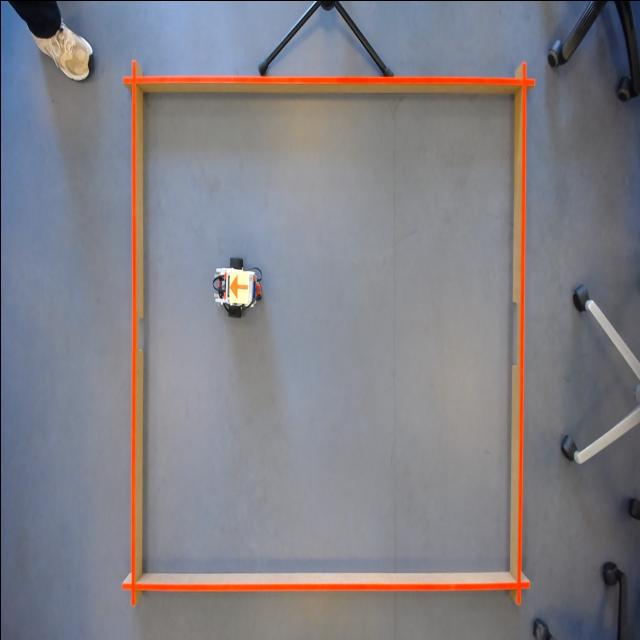robot: (227, 270, 250, 305)
